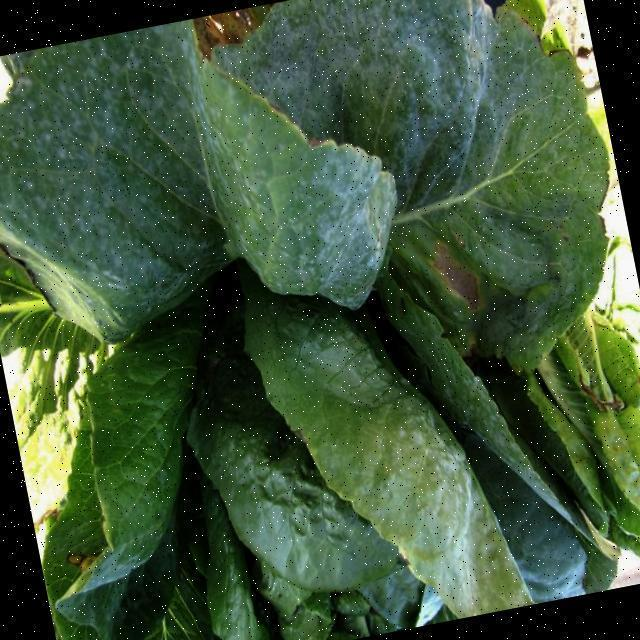Powdery_Mildew: (11, 26, 326, 346), (300, 0, 548, 290)
